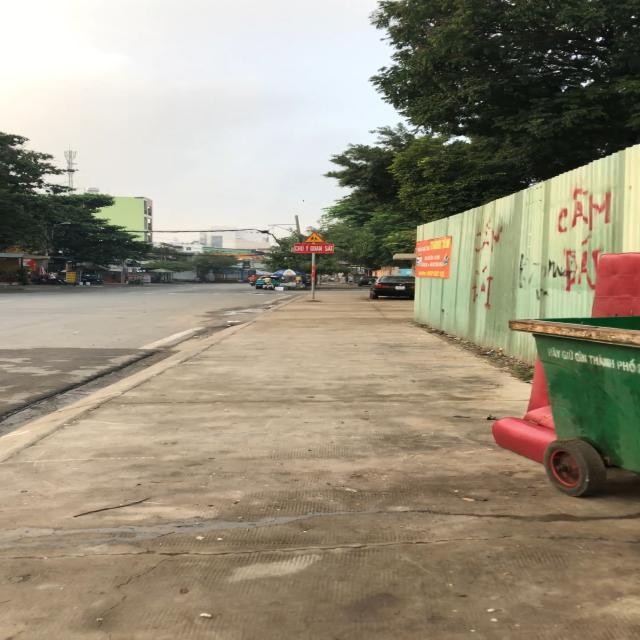Bien bao tre em: (302, 231, 328, 243)
